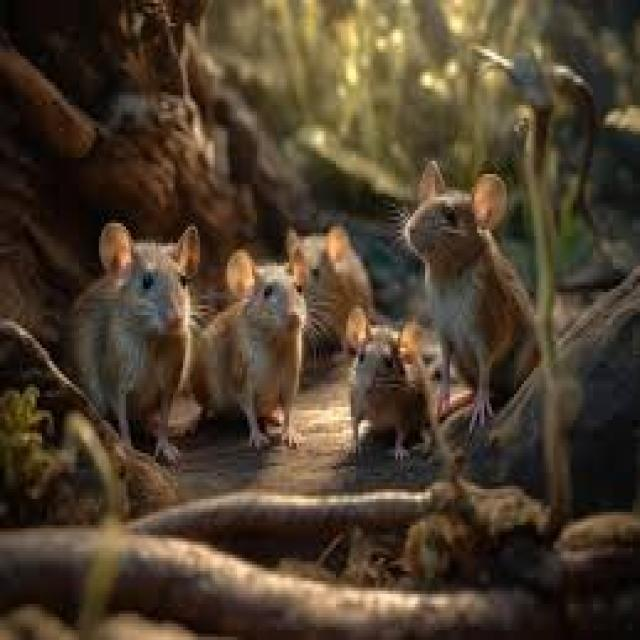Rat: (54, 118, 582, 507), (69, 211, 204, 454), (398, 151, 520, 349), (226, 236, 325, 443), (341, 291, 425, 451)
